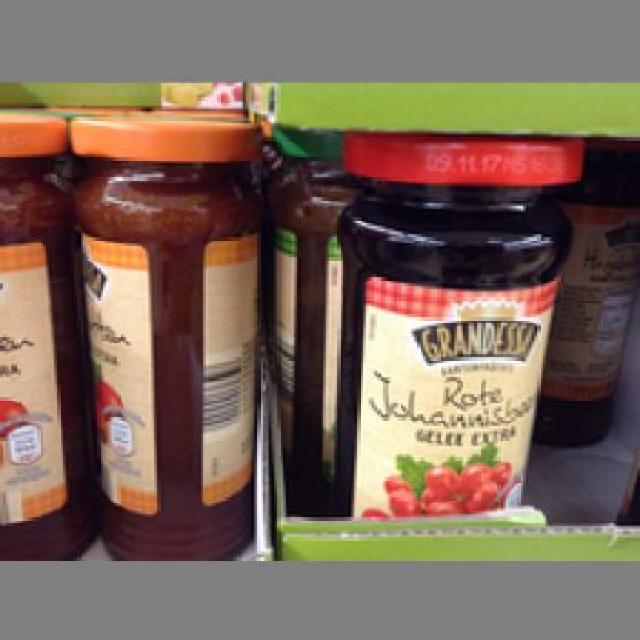Jam: (328, 129, 586, 520), (66, 108, 263, 554), (0, 105, 66, 558)
